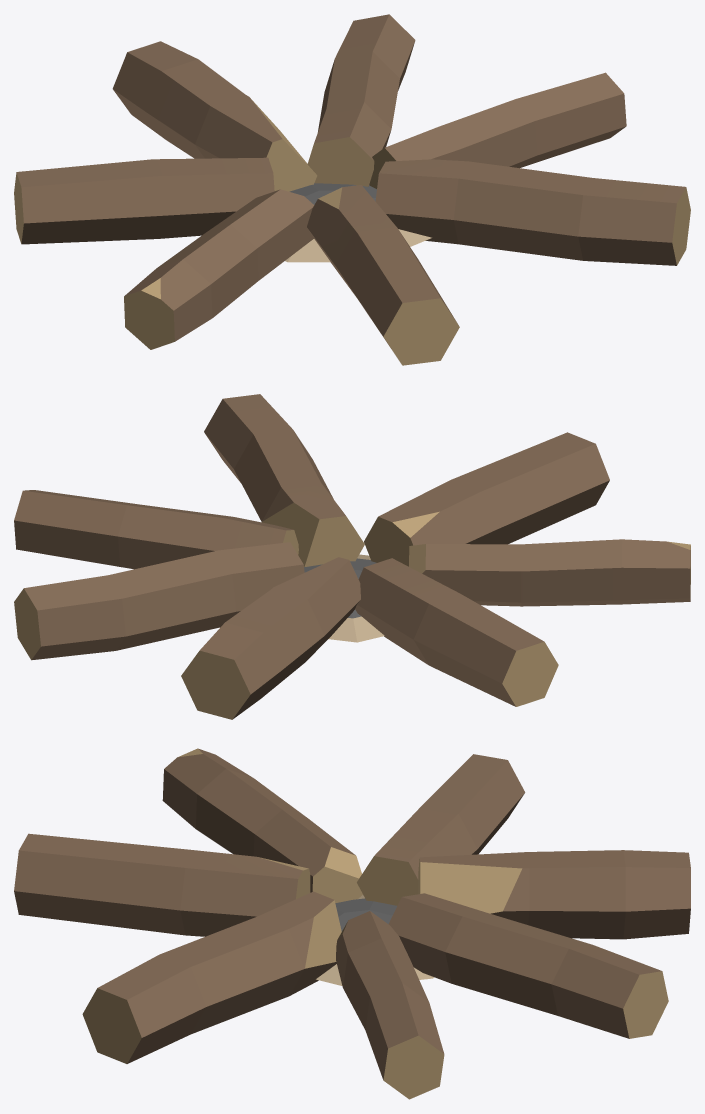
Rendered from Hilly_Prop_Camp_Campfire.obj.
3 renders of one model, top to bottom at view 1: azimuth 30°, elevation 25°; view 2: azimuth 150°, elevation 25°; view 3: azimuth 270°, elevation 25°, orthographic. The views are drawn at different scales.
Parts seen in each view (by area): view 1: object3, object2, object7, object6, object5, object4, object1, object8; view 2: object1, object5, object7, object2, object6, object4, object3, object8; view 3: object3, object5, object1, object6, object7, object4, object2, object8.
Part boxes in pixels (box(x1,y1,x2,y2)): object3: box(375, 159, 690, 265); object2: box(14, 157, 274, 244); object7: box(124, 189, 314, 349); object6: box(112, 41, 317, 191); object5: box(307, 185, 459, 365); object4: box(370, 72, 626, 188); object1: box(307, 14, 415, 186); object8: box(285, 183, 431, 262); object1: box(14, 542, 304, 660); object5: box(364, 432, 609, 566); object7: box(409, 539, 690, 606); object2: box(355, 558, 558, 706); object6: box(181, 557, 360, 719); object4: box(14, 490, 298, 569); object3: box(204, 394, 364, 567); object8: box(304, 554, 384, 642); object3: box(82, 891, 341, 1063); object5: box(14, 833, 310, 936); object1: box(388, 893, 668, 1038); object6: box(418, 850, 690, 939); object7: box(162, 748, 362, 902); object4: box(336, 911, 444, 1099); object2: box(357, 754, 525, 905); object8: box(316, 895, 434, 985).
Size of the model in its own units: 1.43 by 0.1839 by 1.4.
